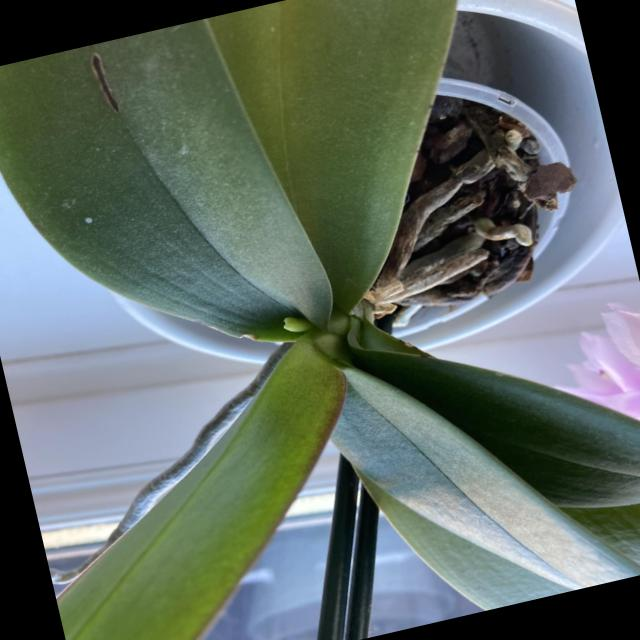leaf: (0, 20, 328, 341), (56, 341, 366, 640), (226, 0, 457, 326), (348, 348, 640, 514)
root: (364, 149, 532, 315)
